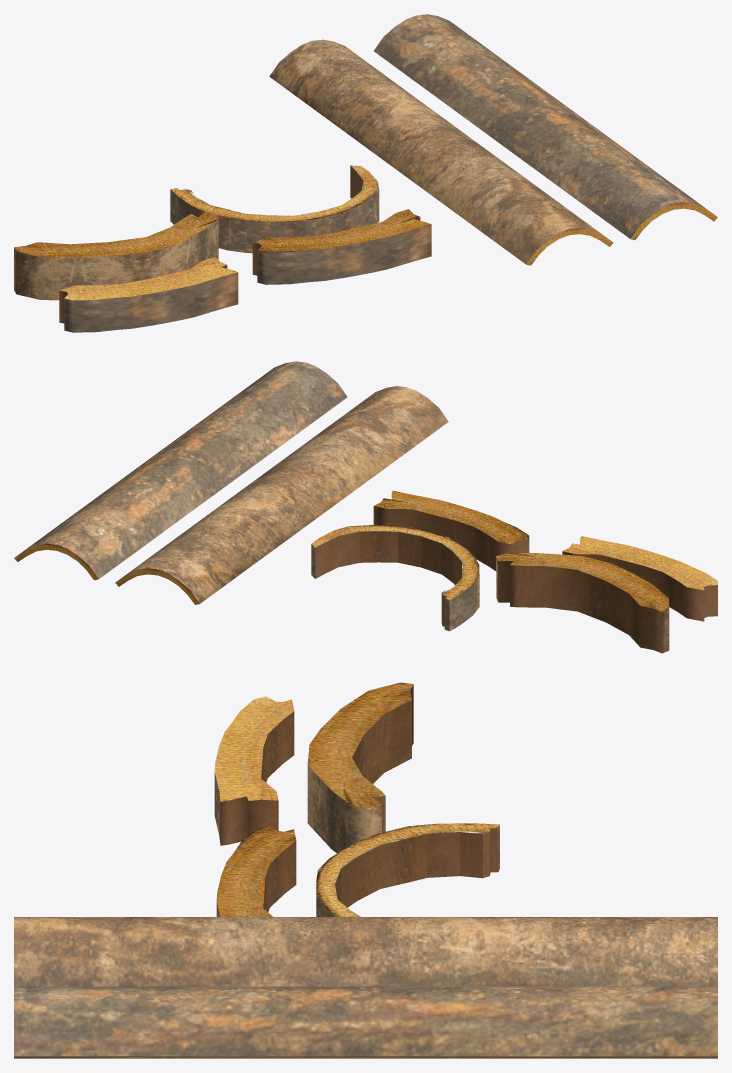
The model's file is qinpi.FBX.
3 renders of one model, top to bottom at view 1: azimuth 30°, elevation 25°; view 2: azimuth 150°, elevation 25°; view 3: azimuth 270°, elevation 25°, orthographic. The views are drawn at different scales.
Visible parts, largest first — view 1: Box003, Box002, Line001, Line003, Line004, Line002; view 2: Box003, Box002, Line001, Line002, Line003, Line004; view 3: Box003, Box002, Line001, Line002, Line004, Line003.
Part boxes in pixels (x1,y1,x2,y2): Box003: [374, 14, 717, 240]; Box002: [269, 39, 613, 265]; Line001: [14, 211, 218, 300]; Line003: [252, 209, 431, 284]; Line004: [59, 257, 238, 332]; Line002: [170, 165, 379, 253]; Box003: [14, 361, 347, 580]; Box002: [115, 386, 448, 604]; Line001: [496, 553, 669, 653]; Line002: [311, 525, 479, 631]; Line003: [373, 490, 529, 571]; Line004: [562, 536, 717, 621]; Box003: [14, 986, 717, 1058]; Box002: [14, 917, 717, 986]; Line001: [307, 682, 413, 853]; Line002: [316, 823, 499, 916]; Line004: [214, 696, 294, 845]; Line003: [216, 826, 296, 916].
Size of the model in its own units: 54.76 by 6.36 by 43.38.
1 material, 1 textured.
